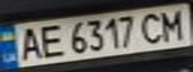1: (103, 16, 121, 50)
3: (84, 17, 106, 52)
6: (66, 19, 90, 55)
7: (115, 12, 139, 47)
A: (12, 25, 45, 62)
C: (136, 10, 169, 44)
E: (33, 21, 66, 60)
M: (154, 7, 187, 42)
